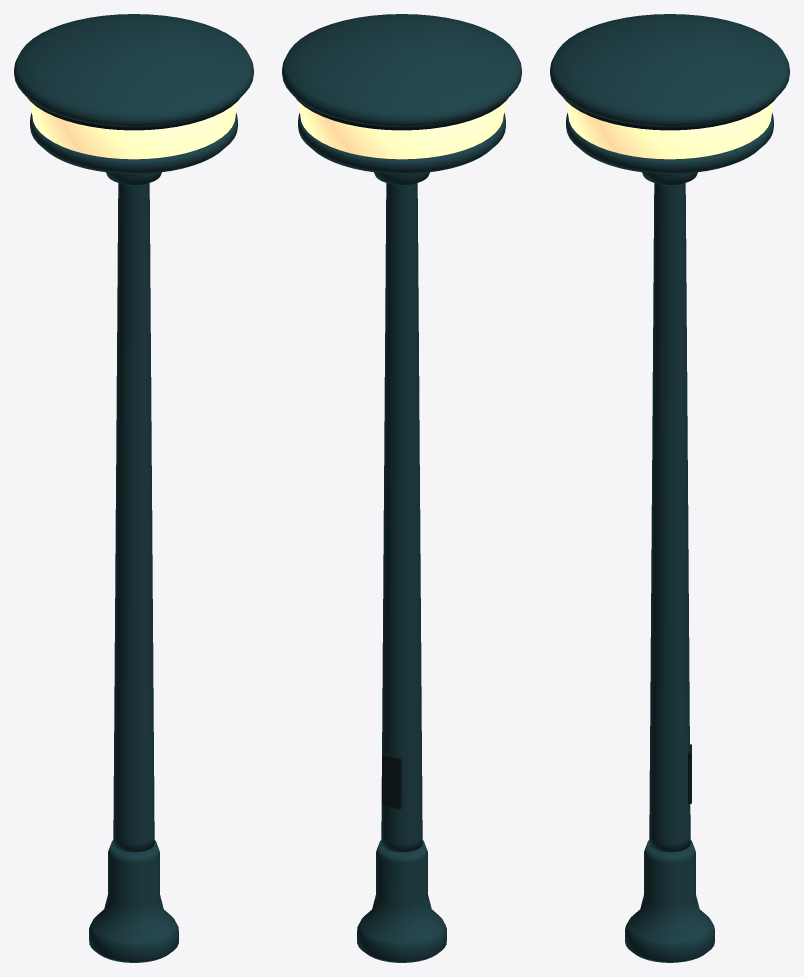
The model's file is city_lights_02.glb.
3 views of the same model, side by side, from view 1: azimuth 30°, elevation 25°; view 2: azimuth 150°, elevation 25°; view 3: azimuth 270°, elevation 25° (orthographic).
Parts seen in each view (by area): view 1: quiet_tapered_pole, broad_rounded_canopy, foot_splayed_casting, broad_recessed_diffuser, lower_shield, crown_seal, lantern_neck; view 2: quiet_tapered_pole, broad_rounded_canopy, foot_splayed_casting, broad_recessed_diffuser, lower_shield, front_service_panel, crown_seal, lantern_neck; view 3: quiet_tapered_pole, broad_rounded_canopy, foot_splayed_casting, broad_recessed_diffuser, lower_shield, crown_seal, lantern_neck.
Part boxes in pixels (<box>): quiet_tapered_pole: <box>113,183,154,852</box>; broad_rounded_canopy: <box>14,14,253,126</box>; foot_splayed_casting: <box>89,840,178,962</box>; broad_recessed_diffuser: <box>30,101,237,159</box>; lower_shield: <box>30,113,237,174</box>; crown_seal: <box>27,97,240,130</box>; lantern_neck: <box>106,172,161,185</box>; quiet_tapered_pole: <box>381,183,422,852</box>; broad_rounded_canopy: <box>282,14,521,126</box>; foot_splayed_casting: <box>357,840,446,962</box>; broad_recessed_diffuser: <box>298,101,505,159</box>; lower_shield: <box>298,113,505,174</box>; front_service_panel: <box>382,753,401,809</box>; crown_seal: <box>295,97,508,130</box>; lantern_neck: <box>374,172,429,185</box>; quiet_tapered_pole: <box>649,183,690,852</box>; broad_rounded_canopy: <box>550,14,789,126</box>; foot_splayed_casting: <box>625,840,714,962</box>; broad_recessed_diffuser: <box>566,101,773,159</box>; lower_shield: <box>566,113,773,174</box>; crown_seal: <box>563,97,776,130</box>; lantern_neck: <box>642,172,697,185</box>.
Size of the model in its own units: 0.72 by 3 by 0.72.
